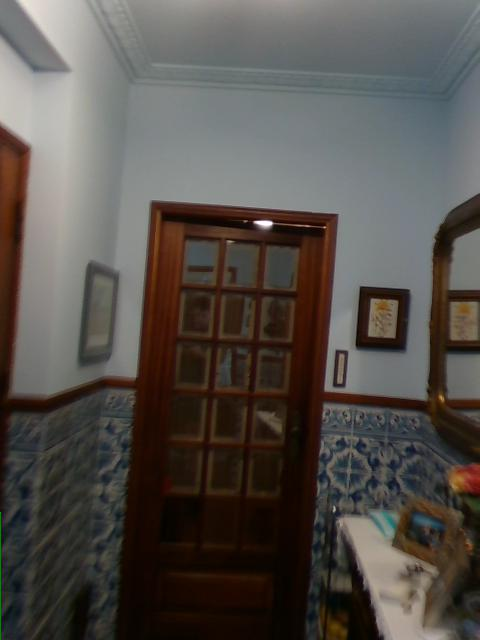door: (120, 199, 341, 640)
